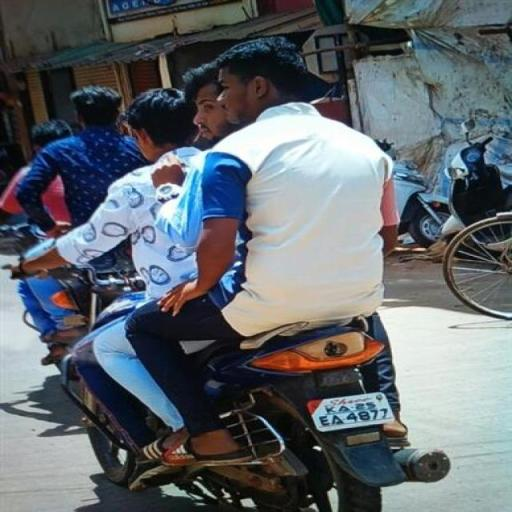tripple riding: (1, 32, 408, 350)
